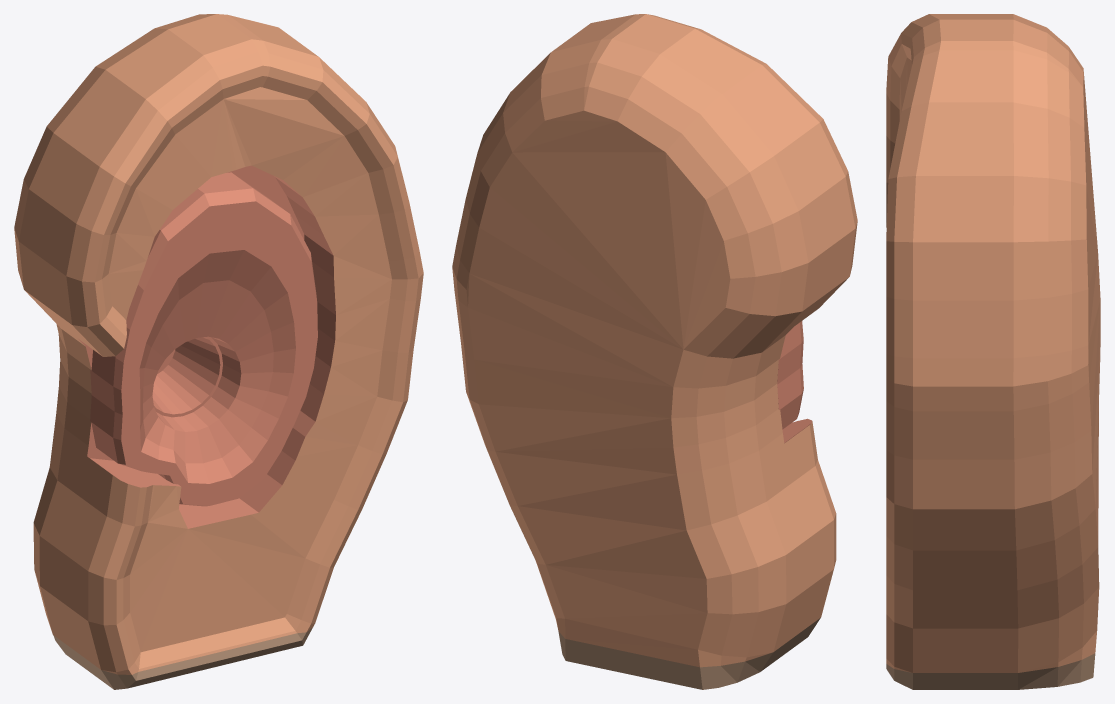
File: KANJI_27_MIMI.fbx
The picture shows the model from 3 angles, left to right: view 1: azimuth 30°, elevation 25°; view 2: azimuth 150°, elevation 25°; view 3: azimuth 270°, elevation 25°; orthographic projection. The views are drawn at different scales.
Visible parts, largest first — view 1: SM_KANJI_27_Mimi; view 2: SM_KANJI_27_Mimi; view 3: SM_KANJI_27_Mimi.
Part boxes in pixels (x1,y1,x2,y2): SM_KANJI_27_Mimi: (14, 14, 423, 689); SM_KANJI_27_Mimi: (452, 14, 857, 689); SM_KANJI_27_Mimi: (886, 14, 1100, 689).
Bounding box in the file's own units: 0.16 × 0.26 × 0.08.
